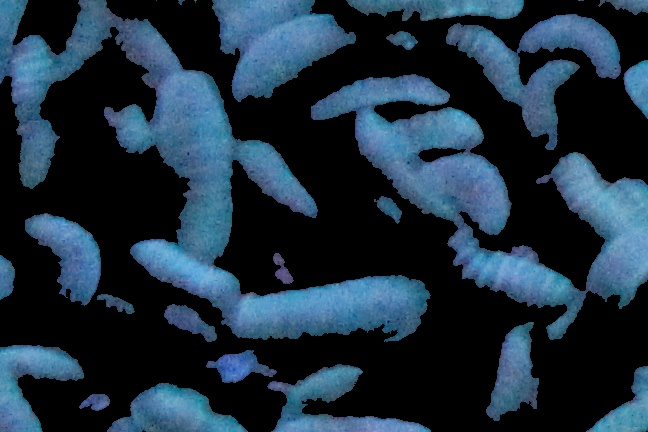larvae: (239, 266, 435, 347), (156, 65, 230, 266), (233, 5, 355, 99), (127, 235, 242, 330), (360, 122, 460, 229), (439, 232, 567, 314), (515, 3, 622, 92), (304, 65, 453, 127), (227, 132, 322, 228), (23, 213, 99, 327), (544, 149, 636, 230), (15, 28, 54, 201), (432, 152, 515, 232), (479, 323, 548, 418), (127, 380, 249, 432), (447, 22, 525, 95), (113, 13, 188, 86), (269, 360, 362, 418), (521, 57, 580, 147), (1, 333, 98, 387), (49, 1, 116, 77), (397, 100, 486, 150), (341, 1, 523, 18)
